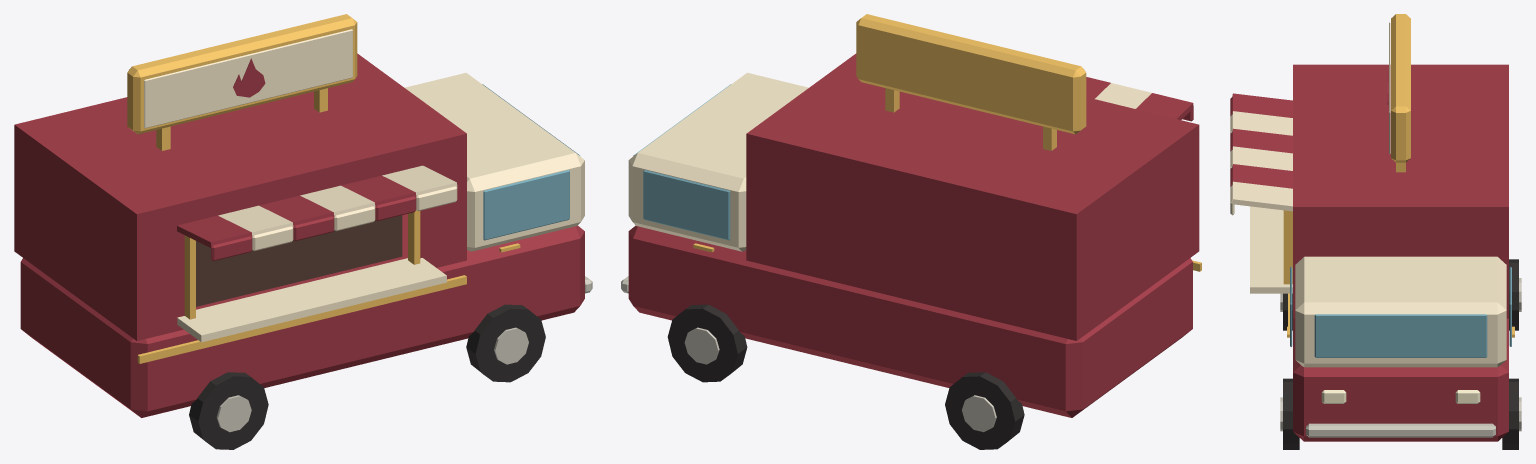
File: truck-big.glb
The picture shows the model from 3 angles, left to right: view 1: azimuth 30°, elevation 25°; view 2: azimuth 150°, elevation 25°; view 3: azimuth 270°, elevation 25°; orthographic projection. The views are drawn at different scales.
Visible parts, largest first — view 1: truck-big; view 2: truck-big; view 3: truck-big.
Part boxes in pixels (bbox=[...]): truck-big: bbox=[14, 14, 592, 449]; truck-big: bbox=[621, 14, 1201, 449]; truck-big: bbox=[1230, 14, 1521, 449].
Size of the model in its own units: 0.767 by 0.5365 by 0.472.
